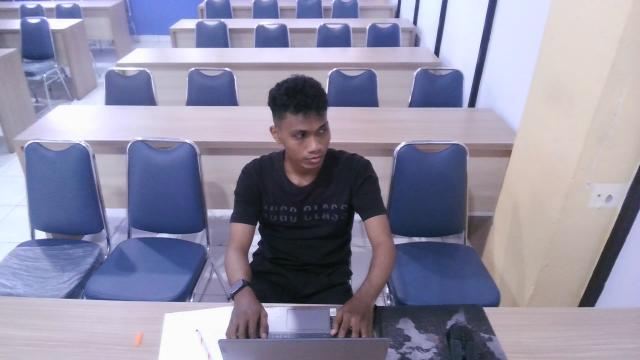Gaze_Aversion: (242, 66, 375, 195)
